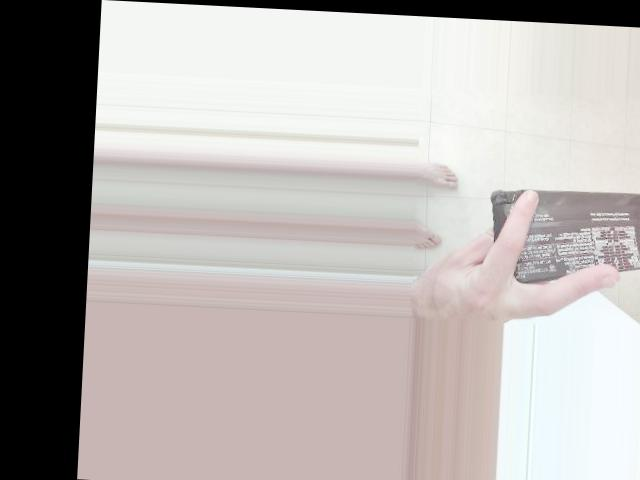chocolate: (526, 87, 639, 285)
